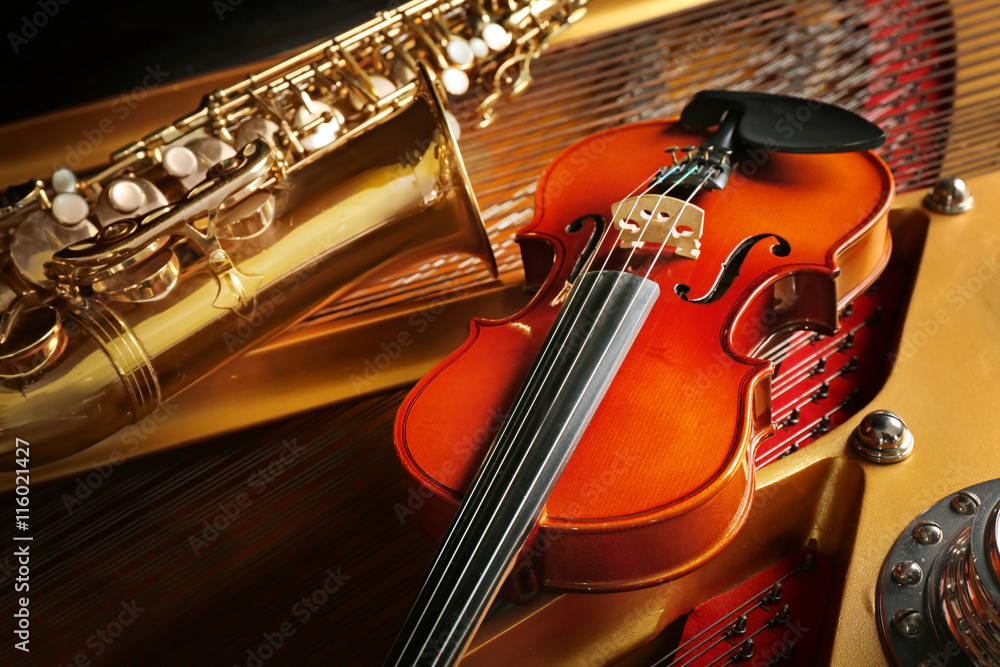Saxophone: (4, 15, 604, 452)
Violin: (376, 97, 926, 667)
